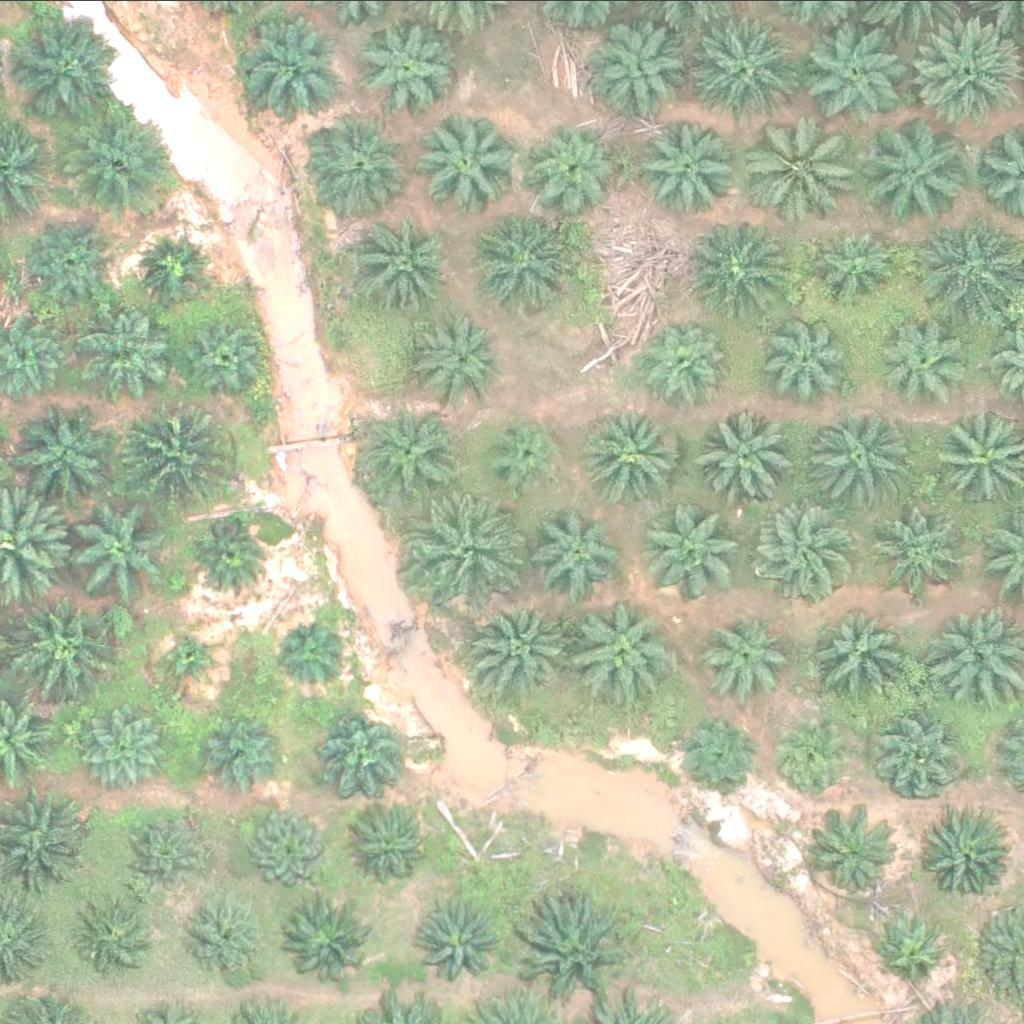Kelapa_Sawit: (413, 493, 527, 606), (69, 106, 182, 219), (863, 116, 976, 229), (684, 15, 797, 128), (518, 895, 631, 1008), (63, 485, 176, 597), (115, 394, 228, 506), (13, 14, 126, 126), (910, 15, 1023, 127), (747, 107, 860, 219), (17, 404, 118, 504), (361, 401, 462, 501), (84, 306, 185, 406), (239, 23, 340, 123), (304, 115, 405, 215), (353, 215, 454, 315), (591, 18, 692, 118), (805, 25, 906, 125), (639, 113, 740, 213), (414, 110, 515, 210), (474, 214, 575, 314), (755, 501, 856, 601), (696, 609, 797, 709), (355, 19, 455, 119), (816, 603, 916, 703), (693, 219, 793, 319), (582, 405, 682, 505), (695, 405, 795, 505), (810, 406, 910, 506), (640, 497, 740, 597), (470, 593, 570, 693), (576, 602, 676, 702), (79, 889, 167, 977), (85, 702, 173, 790), (324, 705, 412, 793), (129, 222, 217, 310), (885, 322, 973, 410), (886, 499, 974, 587), (773, 711, 861, 799), (806, 222, 894, 310), (416, 312, 504, 400), (351, 801, 439, 888), (244, 806, 332, 893), (123, 806, 211, 893), (183, 896, 271, 983), (283, 900, 371, 987), (191, 708, 279, 795), (184, 310, 272, 397), (25, 217, 113, 304), (874, 710, 962, 797), (815, 808, 903, 895), (920, 812, 1008, 899), (526, 123, 614, 210), (760, 316, 848, 403), (637, 319, 725, 406), (537, 509, 625, 596), (674, 710, 762, 797), (420, 895, 508, 982), (877, 908, 953, 983), (192, 520, 268, 595), (486, 417, 562, 492), (275, 614, 350, 689), (164, 625, 227, 688)
